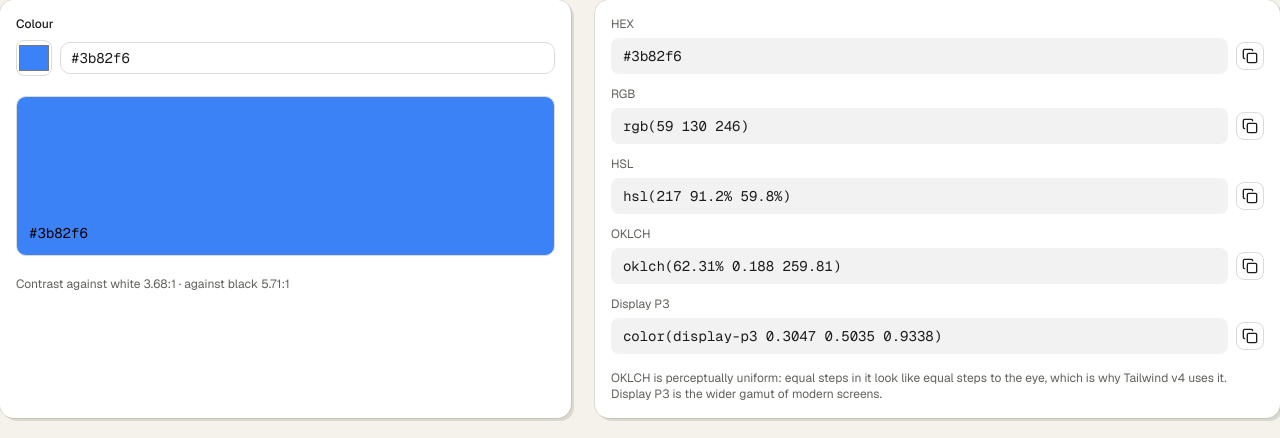
Test: ColourConverterTool › accepts a value in one format and reports it in the others
The image size is (1280, 438).
Clear the field labelled "Colour" at (307, 58), box [60,42,555,74]
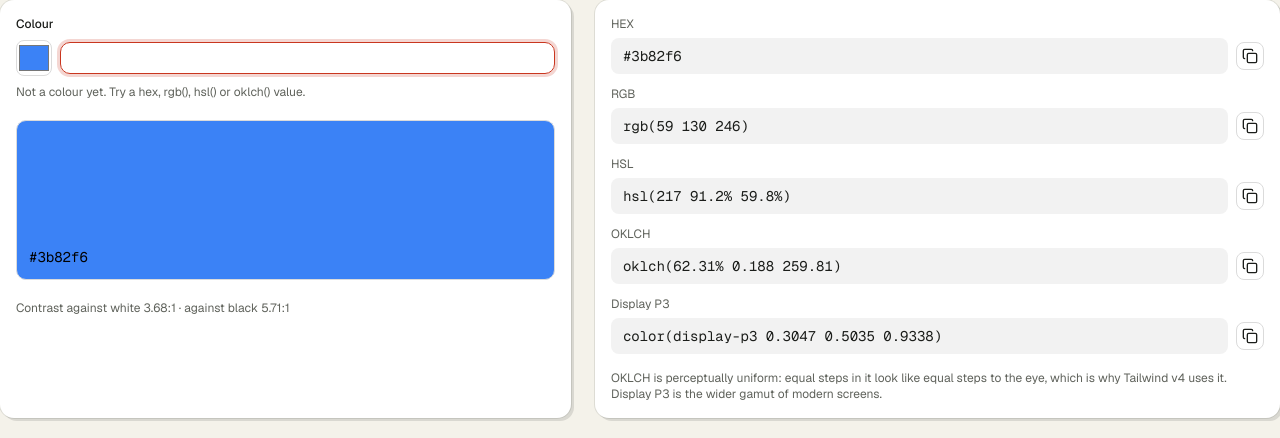
Type keys "hsl(120 100% 50%)"
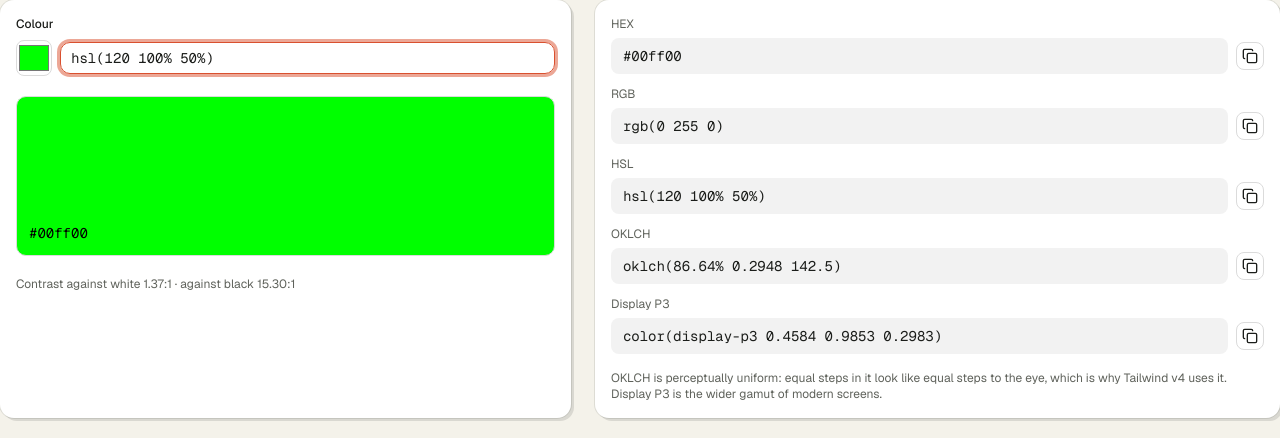
Result: the text "rgb(0 255 0)" is shown at [611,108,1228,144]
Result: the text "#00ff00" below "Colour" is shown at [29,224,88,242]
